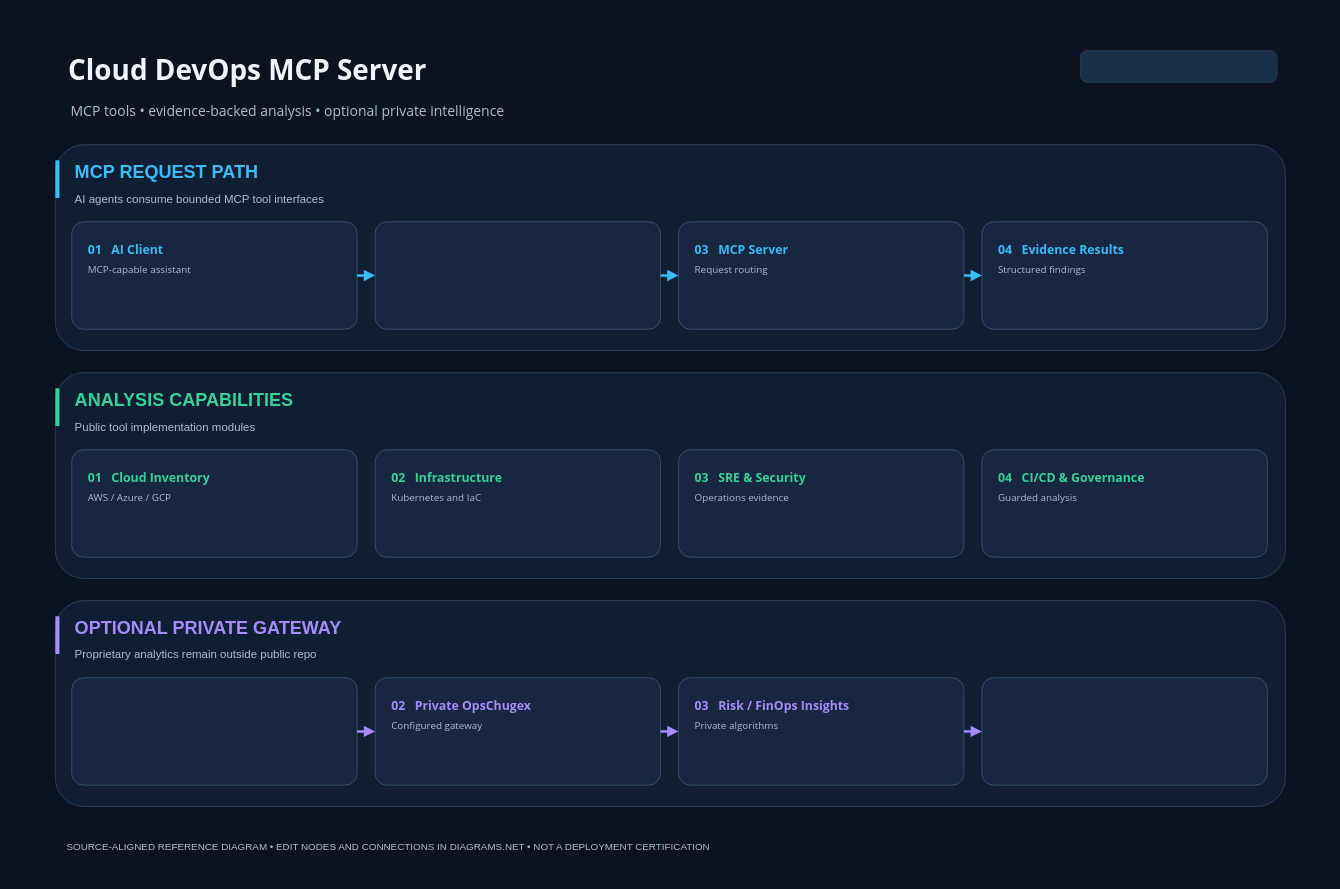
The diagram is 1340 pixels wide and 889 high, and some of its shapes have lost their labels. The shapes that lost their labels are listed below. From the top down, each one's box as (x1, y1, x2, y2) in pixels, then its label:
(1080, 50, 1277, 82): EDITABLE / DRAW.IO
(374, 221, 661, 329): 02 MCP Transport Tool invocation
(71, 677, 357, 785): 01 Opt-in Integration Bounded evidence
(981, 677, 1267, 785): 04 Returned Assessment Blockers and evidence gaps
